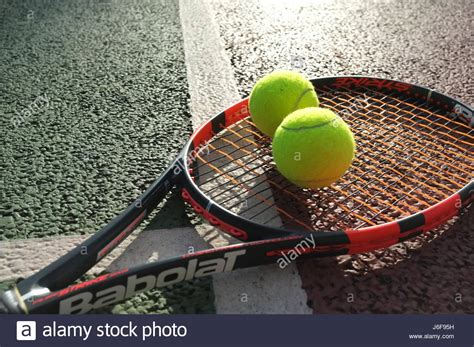tennis_ball: (272, 106, 355, 188), (248, 69, 319, 138)
